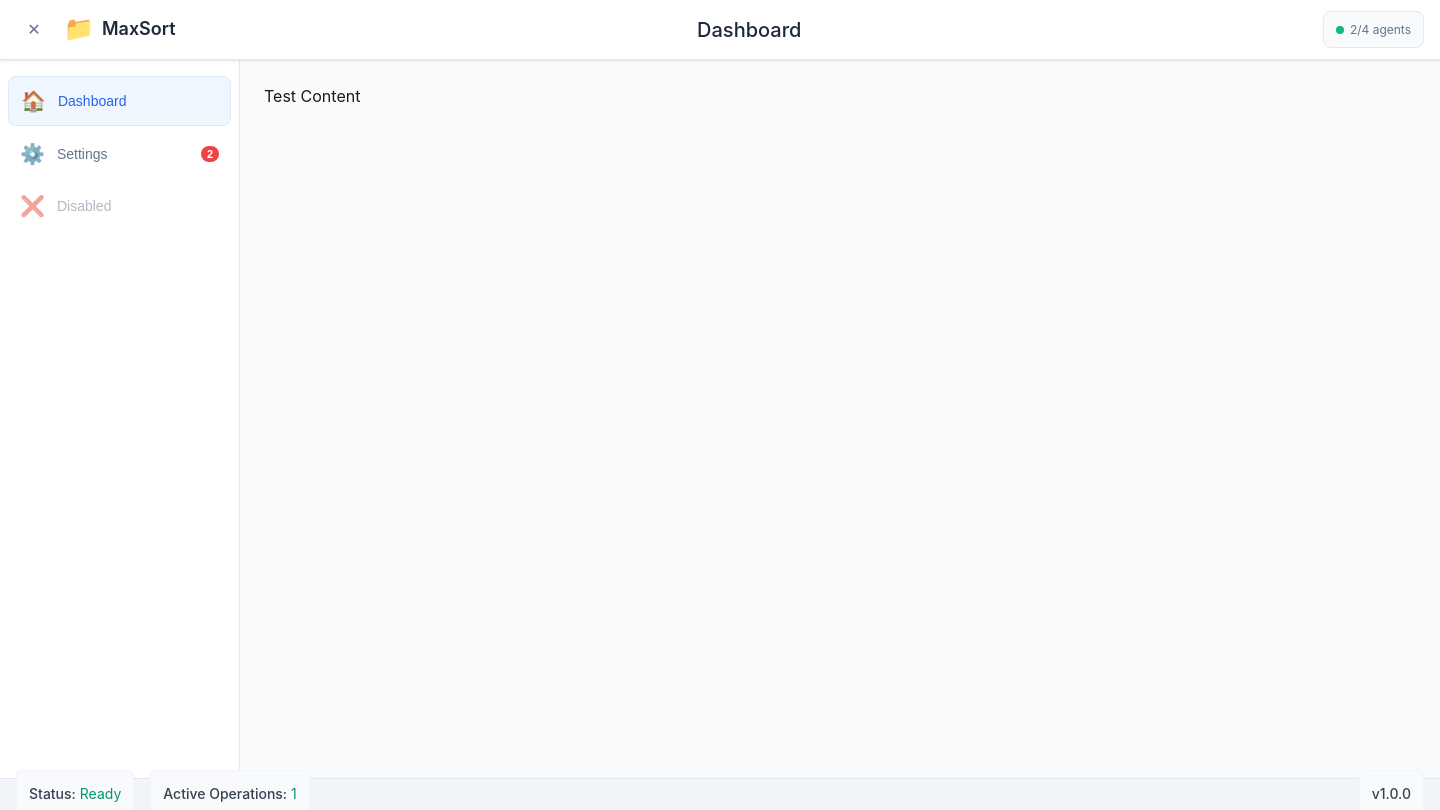
AppLayout › shows system status dropdown on click
Click the element titled "System Status".
click(1373, 30)  # box [1323,11,1424,48]
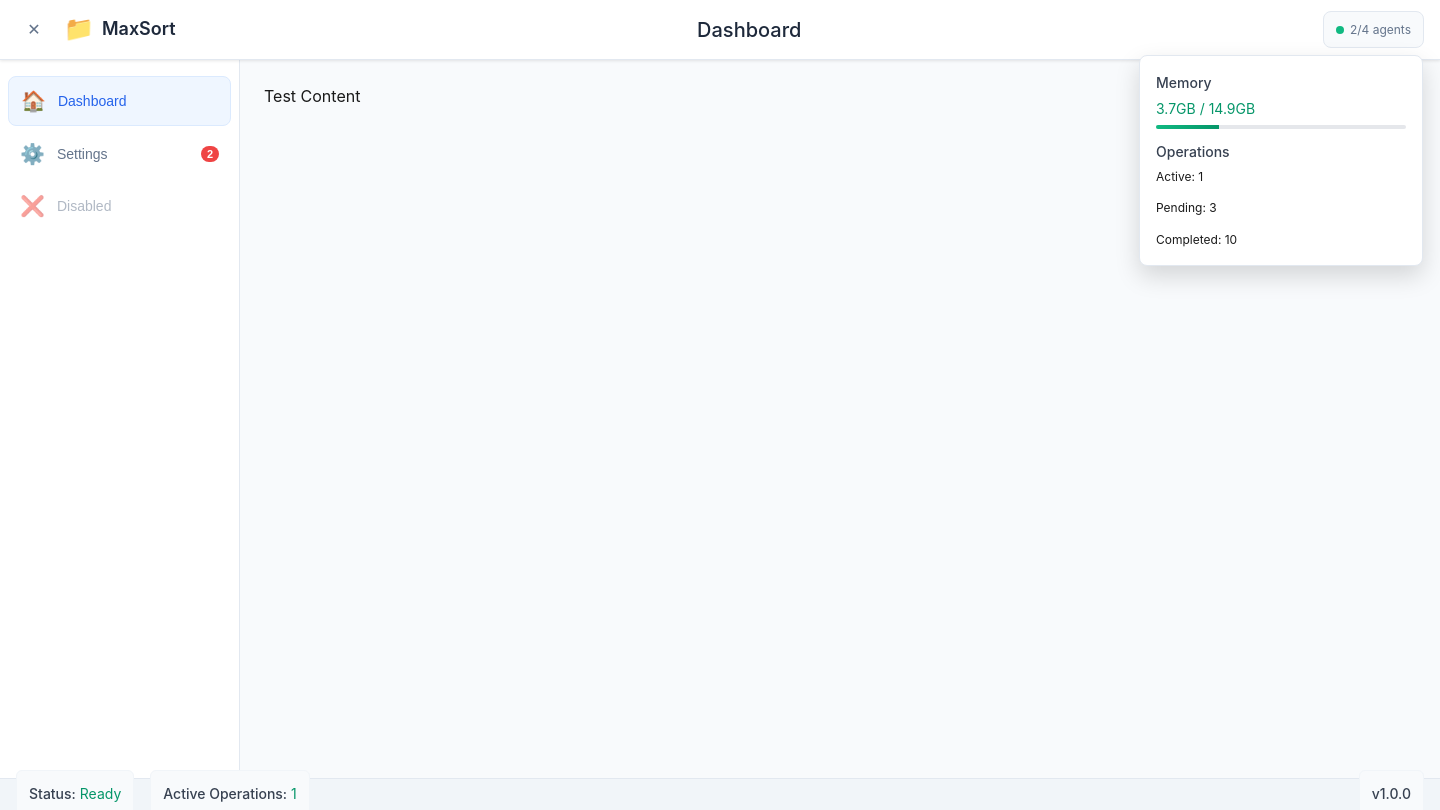
Now the text "Memory" is shown, box [1156,74,1212,91]
Now the text "Operations" is shown, box [1156,143,1230,160]
